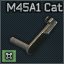M45A1 slide lock: (0, 0, 64, 64)
